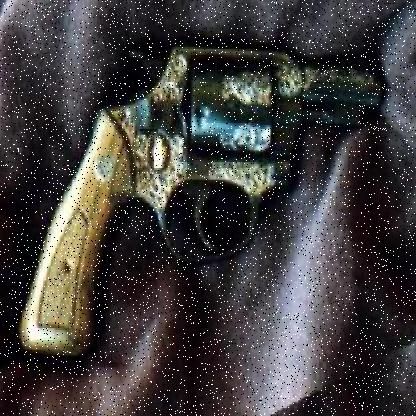pistol: (15, 43, 382, 354)
